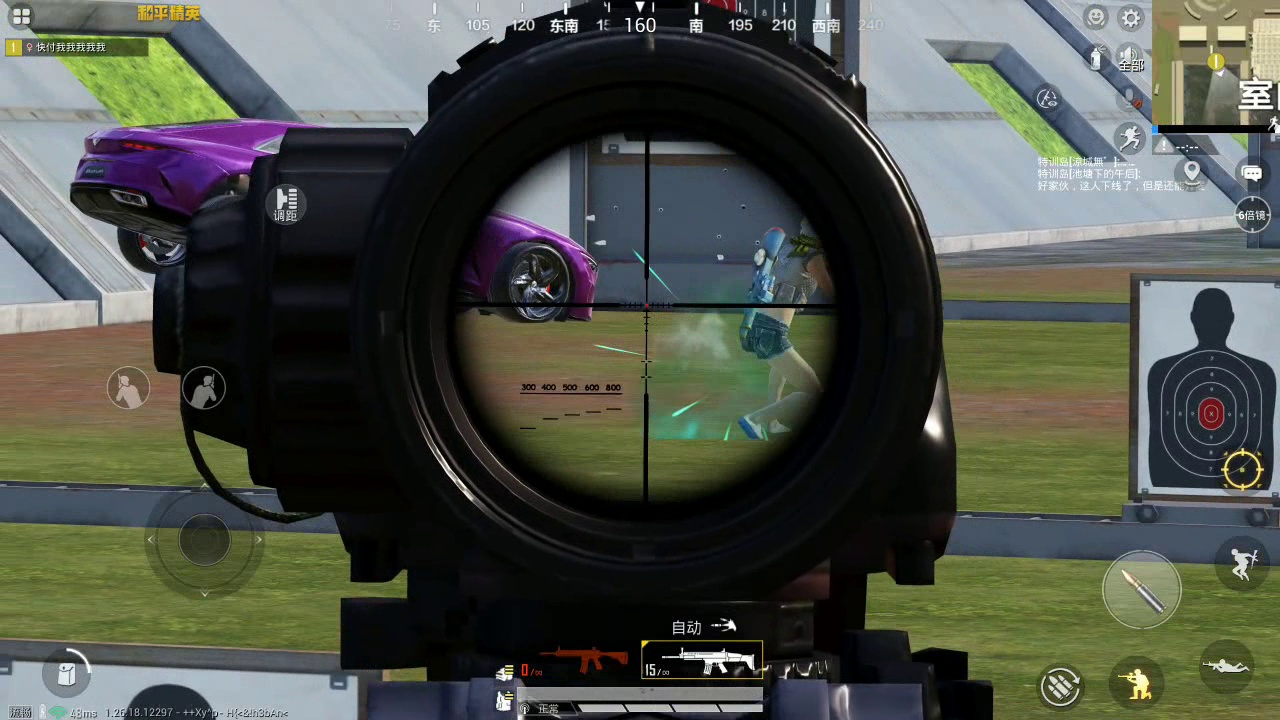enemy: (733, 206, 827, 444)
